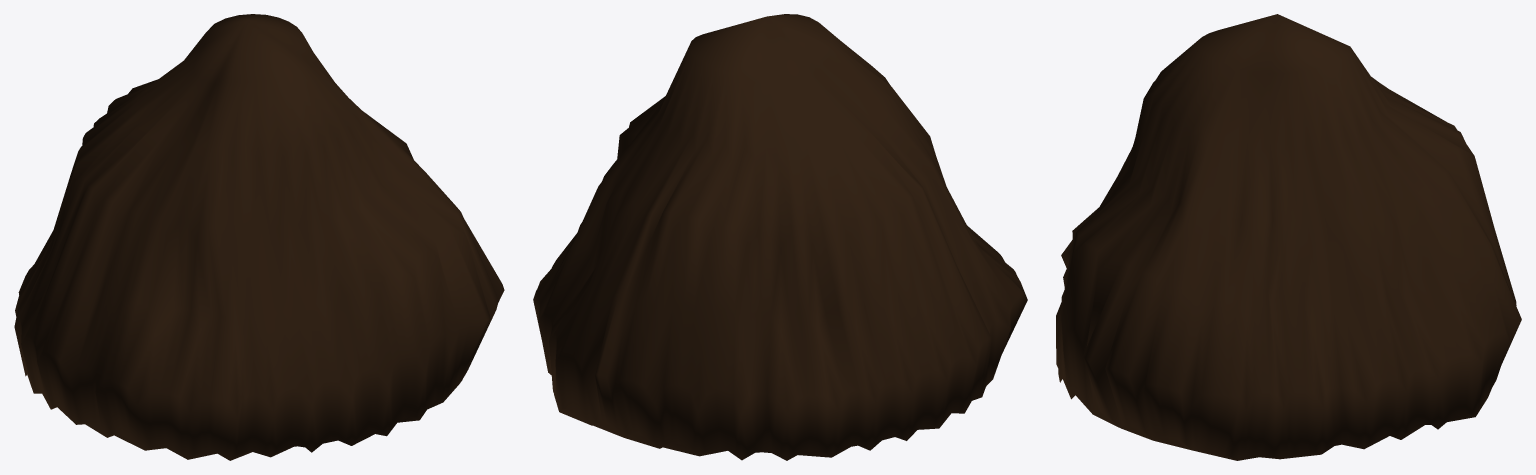
File: og_poop.glb
The picture shows the model from 3 angles, left to right: view 1: azimuth 30°, elevation 25°; view 2: azimuth 150°, elevation 25°; view 3: azimuth 270°, elevation 25°; orthographic projection.
Visible parts, largest first — view 1: Cone; view 2: Cone; view 3: Cone.
Boxes of the visible parts, x1,y1,x2,y2 form: Cone: [14, 14, 504, 460]; Cone: [533, 14, 1027, 460]; Cone: [1056, 14, 1521, 460].
Bounding box in the file's own units: 2.24 × 1.78 × 2.13.
Materials: 1 (1 with a texture image).
